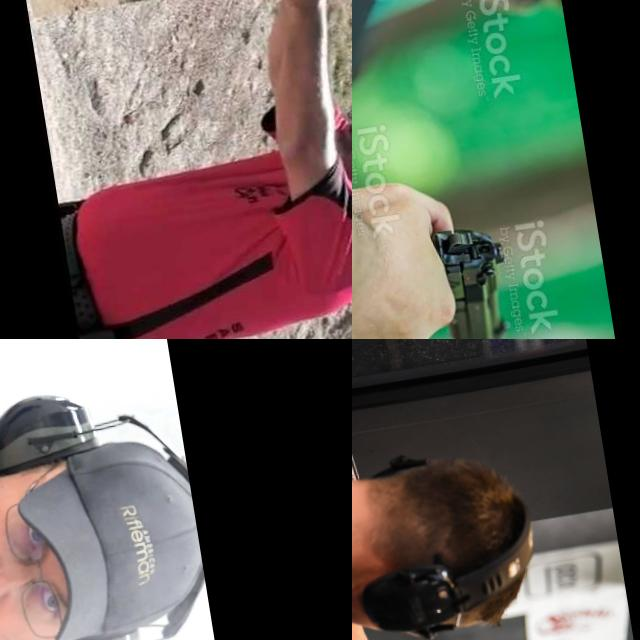handgun: (427, 219, 519, 339), (297, 0, 352, 51)
